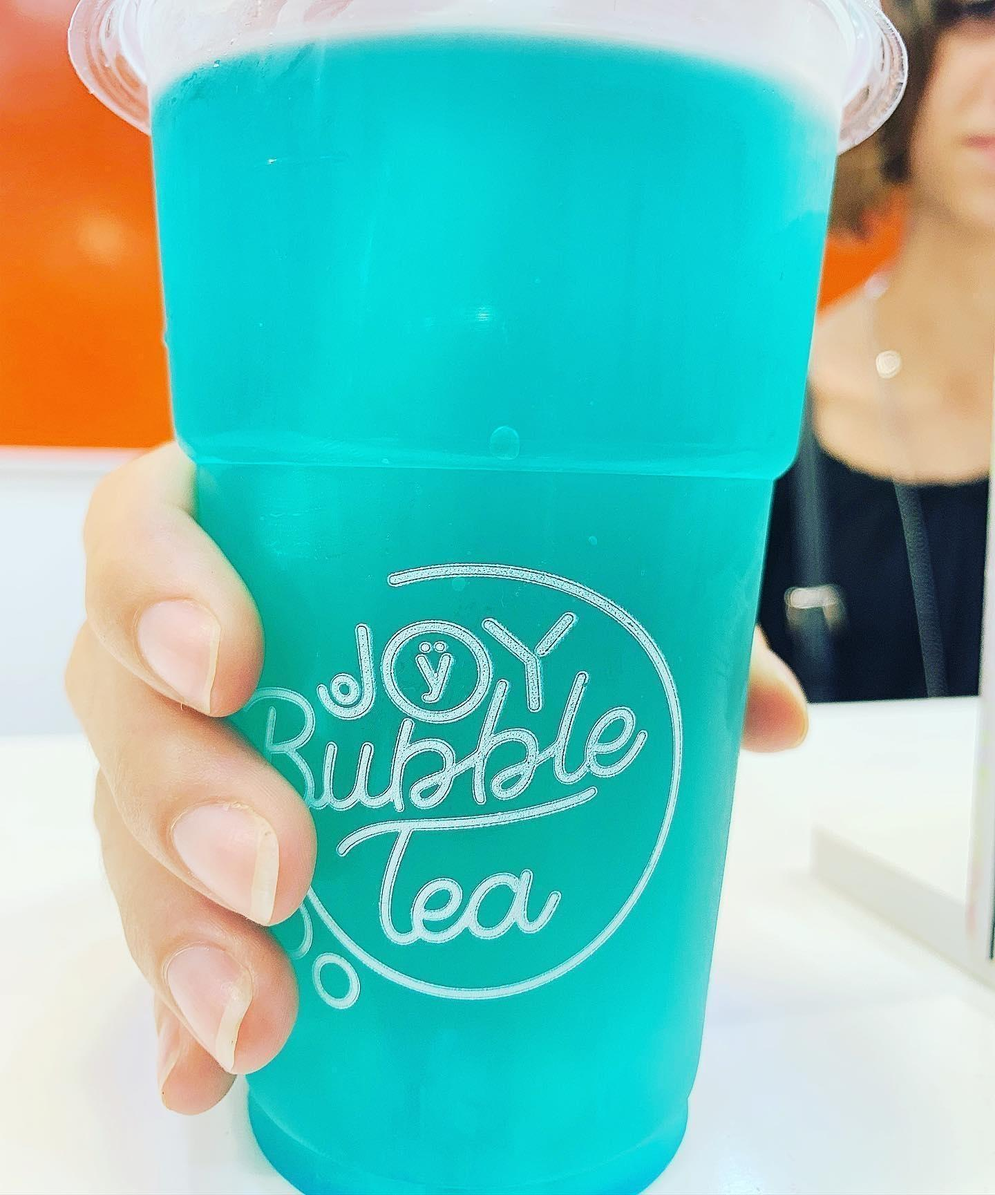cup-disposable: (52, 0, 918, 1195)
